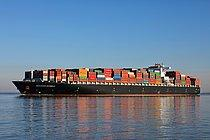Ship: (11, 62, 207, 105)
